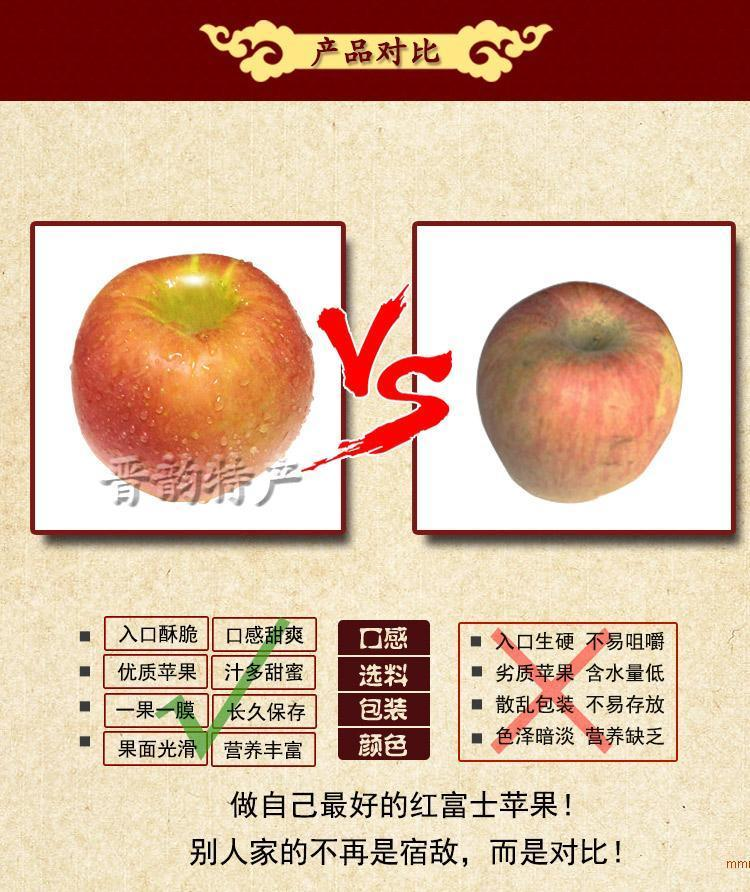apple: (66, 248, 319, 504), (475, 280, 682, 507)
